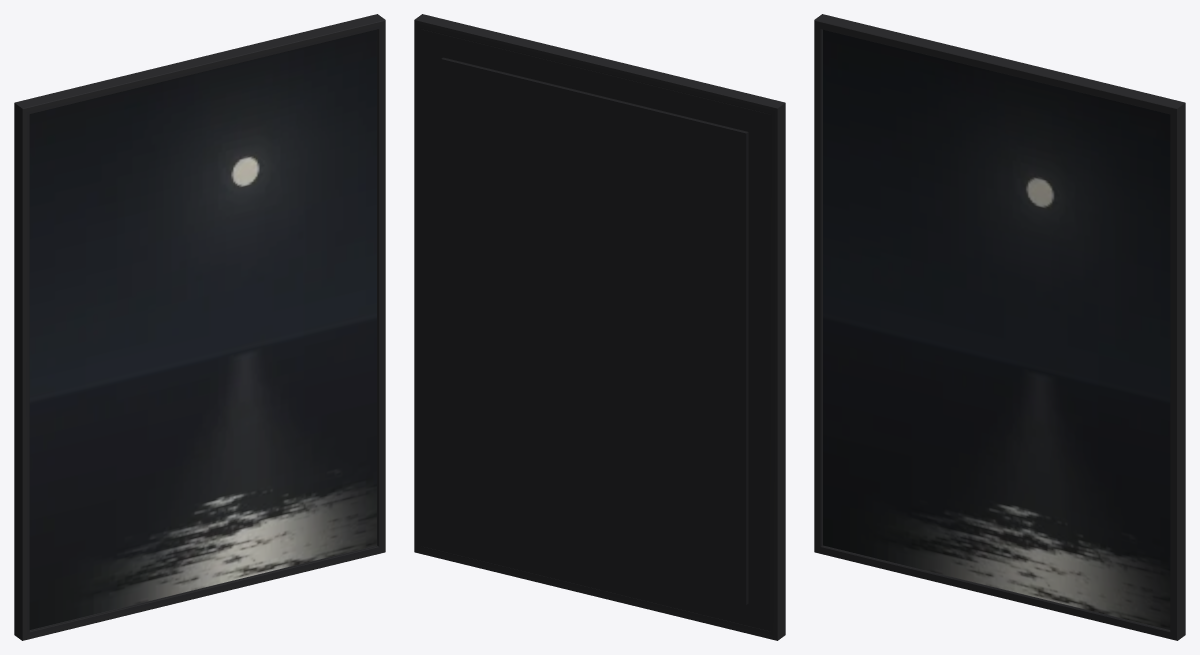
Rendered from art_moon_sea.gltf.
3 views of the same model, side by side, from view 1: azimuth 30°, elevation 25°; view 2: azimuth 150°, elevation 25°; view 3: azimuth 330°, elevation 25° (orthographic).
Parts seen in each view (by area): view 1: Art_MoonSea_Art, Art_MoonSea_Frame; view 2: Art_MoonSea_Spacer, Art_MoonSea_Backing, Art_MoonSea_Frame; view 3: Art_MoonSea_Art, Art_MoonSea_Frame.
Boxes of the visible parts, x1=… form: Art_MoonSea_Art: x1=29, y1=29, x2=376, y2=629; Art_MoonSea_Frame: x1=14, y1=14, x2=385, y2=640; Art_MoonSea_Spacer: x1=441, y1=57, x2=748, y2=604; Art_MoonSea_Backing: x1=421, y1=29, x2=770, y2=631; Art_MoonSea_Frame: x1=414, y1=14, x2=785, y2=640; Art_MoonSea_Art: x1=823, y1=29, x2=1170, y2=629; Art_MoonSea_Frame: x1=814, y1=14, x2=1185, y2=640.
Size of the model in its own units: 1 by 1.4 by 0.05.
Materials: 3 (1 with a texture image).
